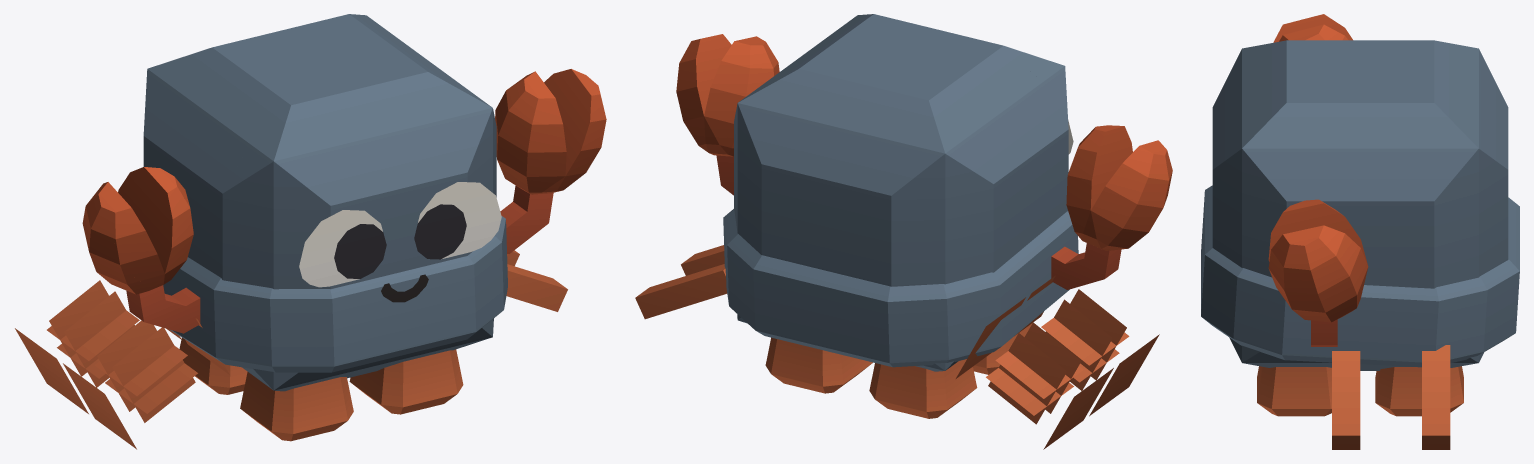
File: caranguejo.glb
3 renders of one model, left to right at view 1: azimuth 30°, elevation 25°; view 2: azimuth 150°, elevation 25°; view 3: azimuth 270°, elevation 25°, orthographic. The views are drawn at different scales.
Visible parts, largest first — view 1: head, body, leg-front-right, leg-front-left, leg-back-right; view 2: body, leg-back-right, leg-back-left, head, leg-front-right; view 3: body, head, leg-front-left, leg-back-left.
Part boxes in pixels (x1,y1,x2,y2): head: [113, 72, 606, 391]; body: [15, 14, 603, 449]; leg-front-right: [240, 372, 353, 441]; leg-front-left: [349, 349, 463, 414]; leg-back-right: [179, 337, 247, 394]; body: [635, 14, 1172, 449]; leg-back-right: [869, 359, 977, 418]; leg-back-left: [765, 337, 872, 393]; head: [721, 14, 1172, 253]; leg-front-right: [973, 323, 1032, 374]; body: [1286, 14, 1519, 449]; head: [1201, 23, 1286, 367]; leg-front-left: [1257, 366, 1331, 416]; leg-back-left: [1375, 366, 1463, 416].
Bounding box in the file's own units: 2.34 × 1.43 × 1.35.
1 material, 1 textured.
